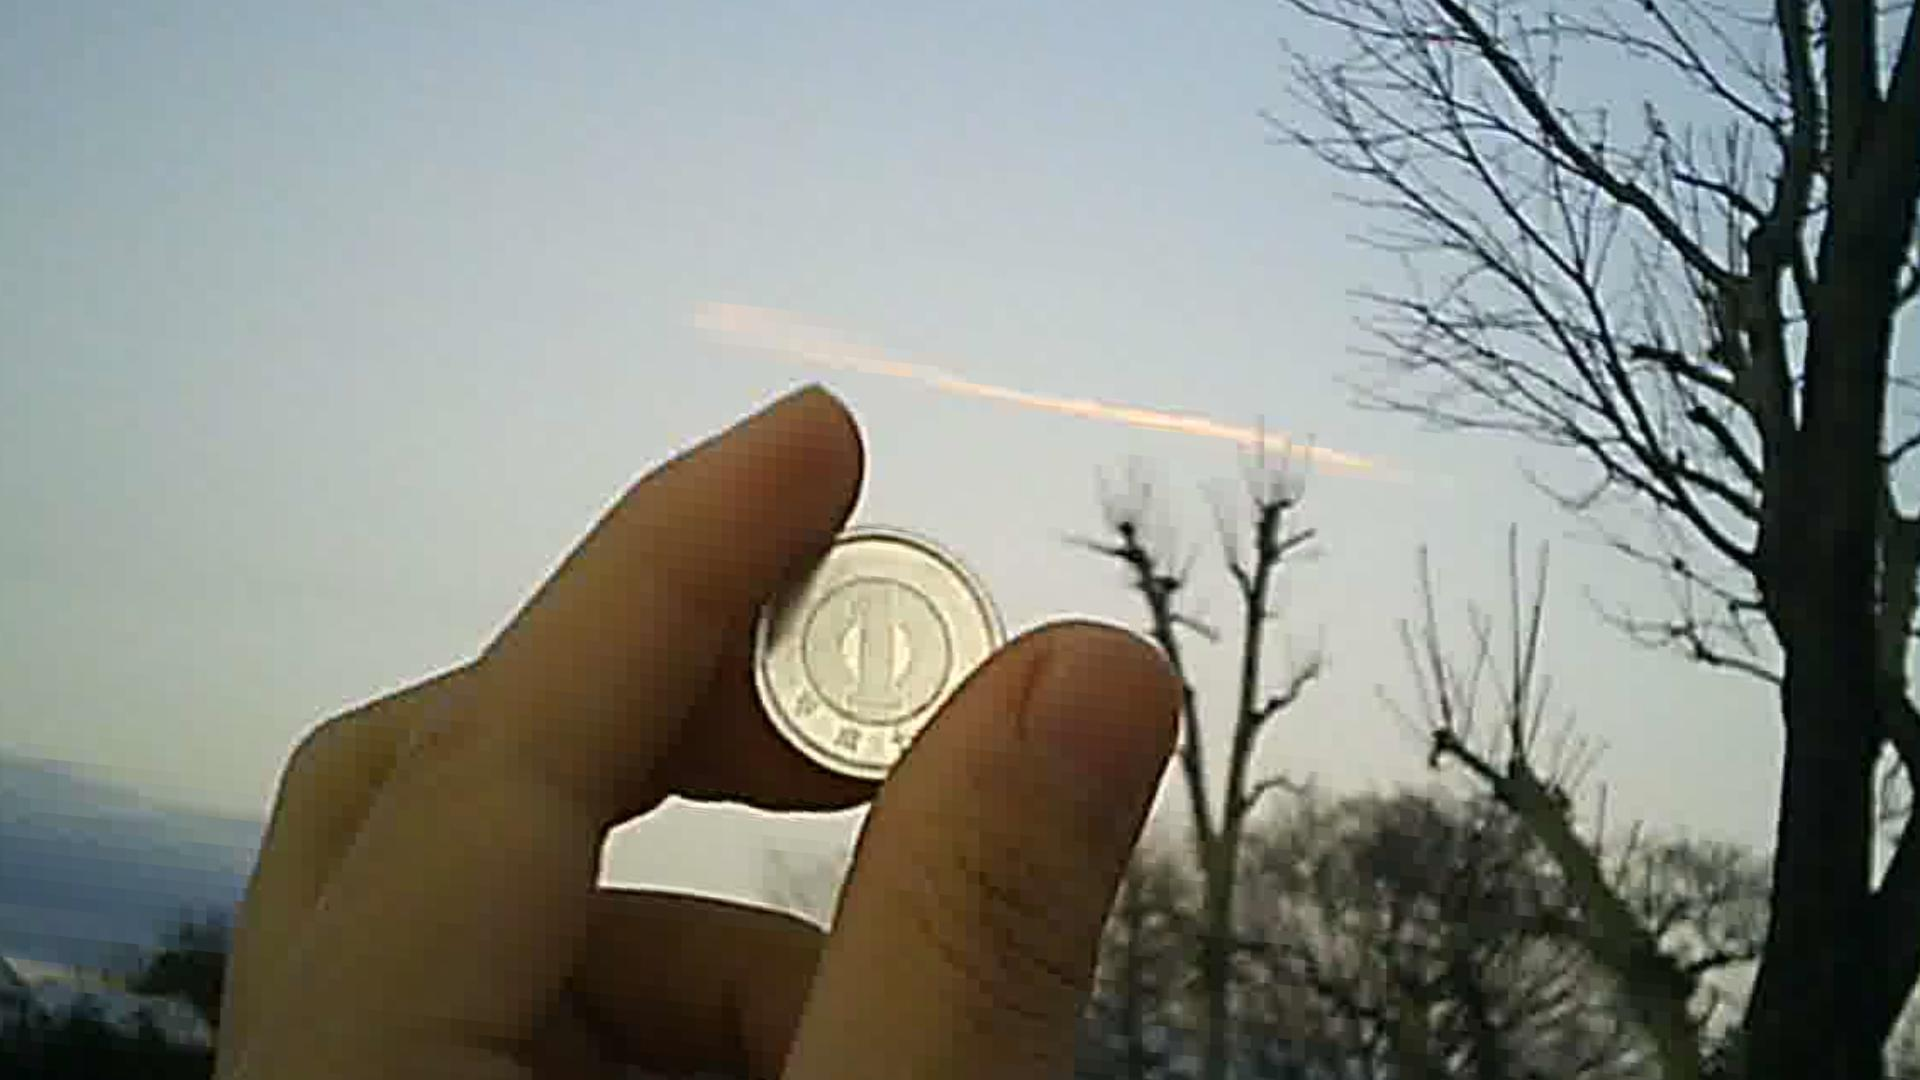1 Yen: (737, 526, 1005, 807)
